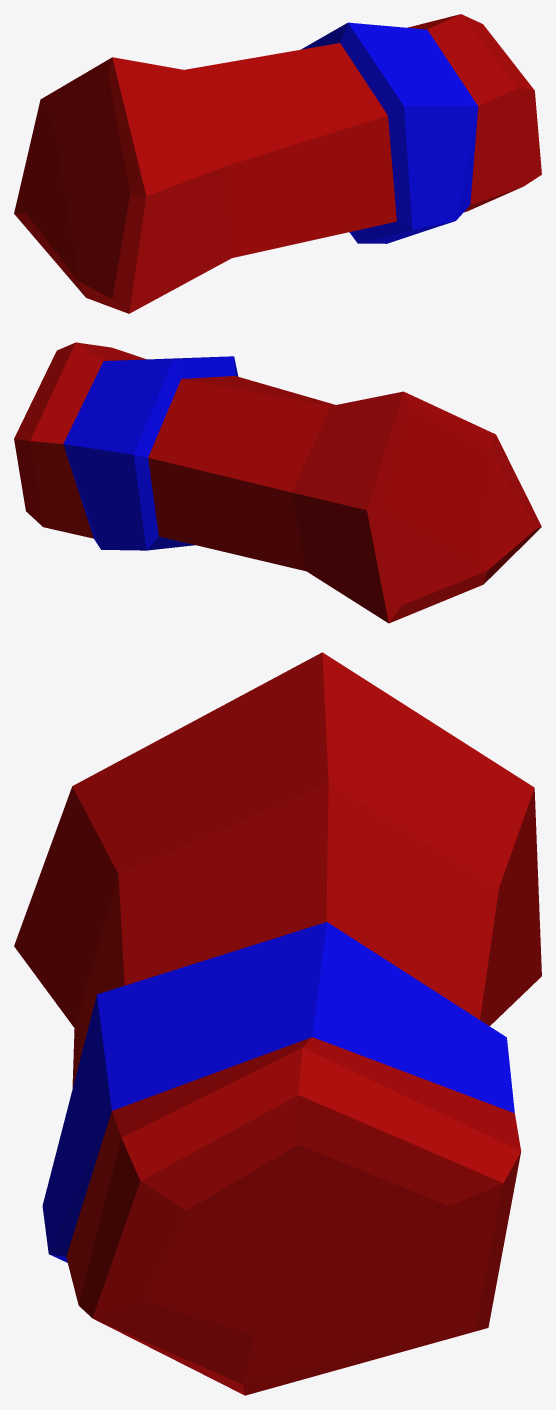
The model's file is Chr_ArmUpperLeft_Male_Static_15.fbx.
3 views of the same model, one above another, from view 1: azimuth 30°, elevation 25°; view 2: azimuth 150°, elevation 25°; view 3: azimuth 270°, elevation 25° (orthographic). The views are drawn at different scales.
Parts seen in each view (by area): view 1: Chr_ArmUpperLeft_Male_15; view 2: Chr_ArmUpperLeft_Male_15; view 3: Chr_ArmUpperLeft_Male_15.
Boxes of the visible parts, x1=… form: Chr_ArmUpperLeft_Male_15: x1=14, y1=14, x2=541, y2=313; Chr_ArmUpperLeft_Male_15: x1=14, y1=342, x2=541, y2=623; Chr_ArmUpperLeft_Male_15: x1=14, y1=652, x2=541, y2=1395.
Bounding box in the file's own units: 32.57 × 16.41 × 17.36.
